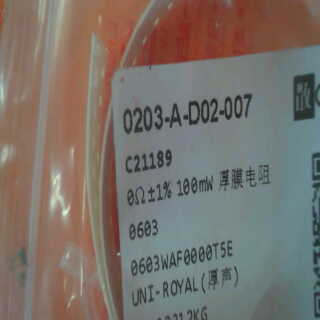0R: (123, 178, 172, 243)
